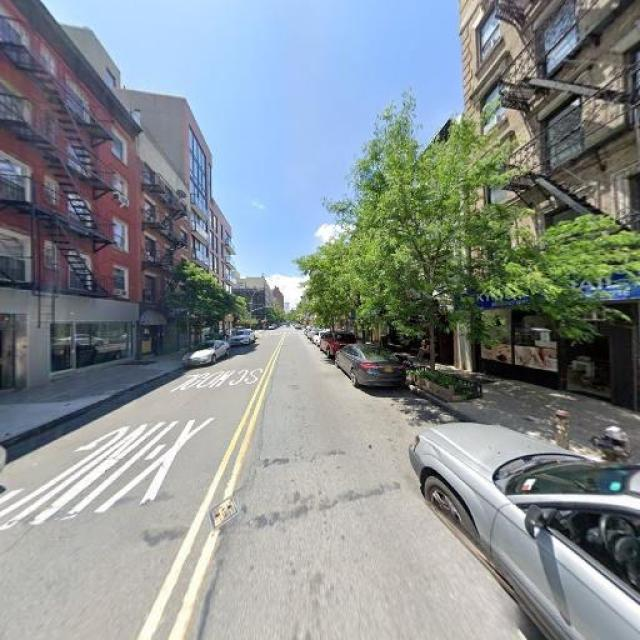Building: (468, 1, 640, 409), (1, 1, 138, 393)
